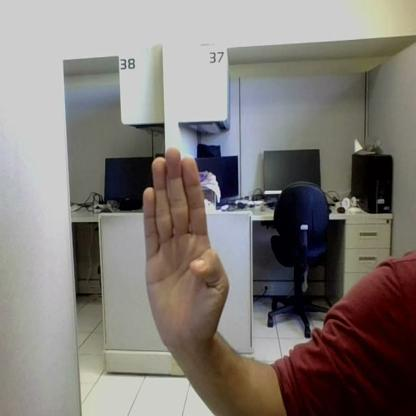B: (143, 148, 228, 340)
